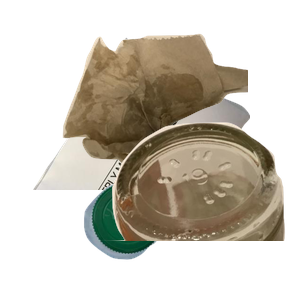glass: (89, 120, 300, 300)
paper: (31, 35, 271, 215)
plastic: (81, 179, 239, 300)
trash: (60, 31, 300, 189)
